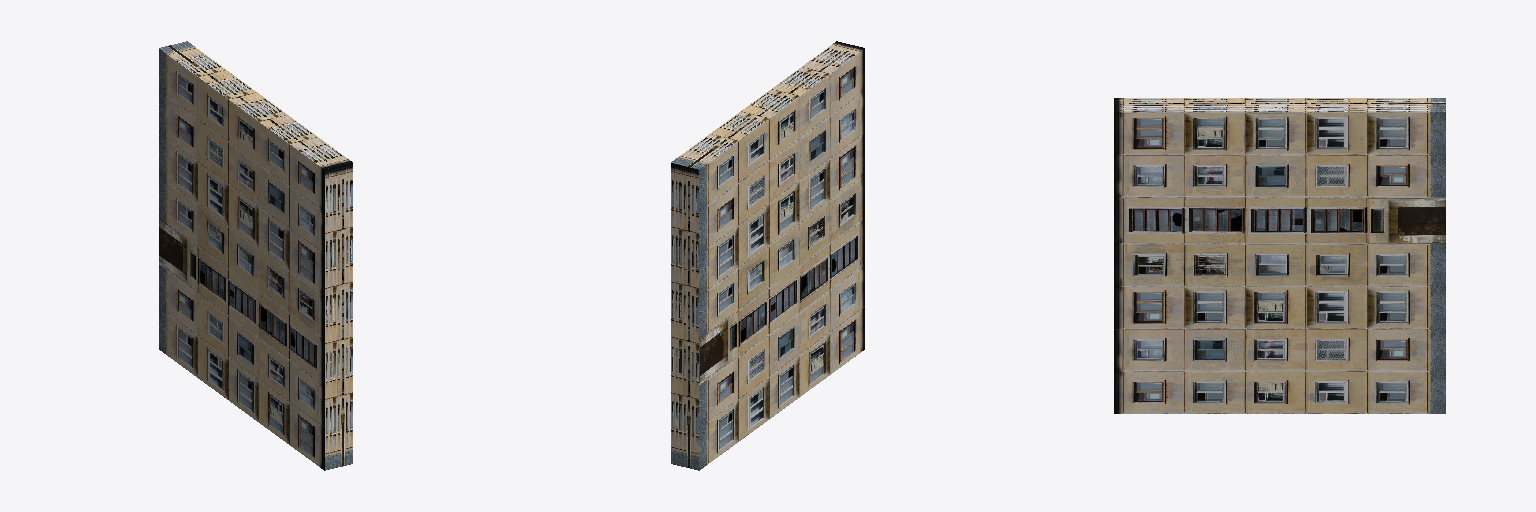
3 views of the same model, side by side, from view 1: azimuth 30°, elevation 25°; view 2: azimuth 150°, elevation 25°; view 3: azimuth 270°, elevation 25° (orthographic).
Parts seen in each view (by area): view 1: Box001; view 2: Box001; view 3: Box001.
Part boxes in pixels (x1,y1,x2,y2): Box001: (159, 41, 352, 470); Box001: (671, 41, 864, 470); Box001: (1114, 98, 1445, 413).
Bounding box in the file's own units: 1 × 10 × 10.
1 materials, 1 textured.